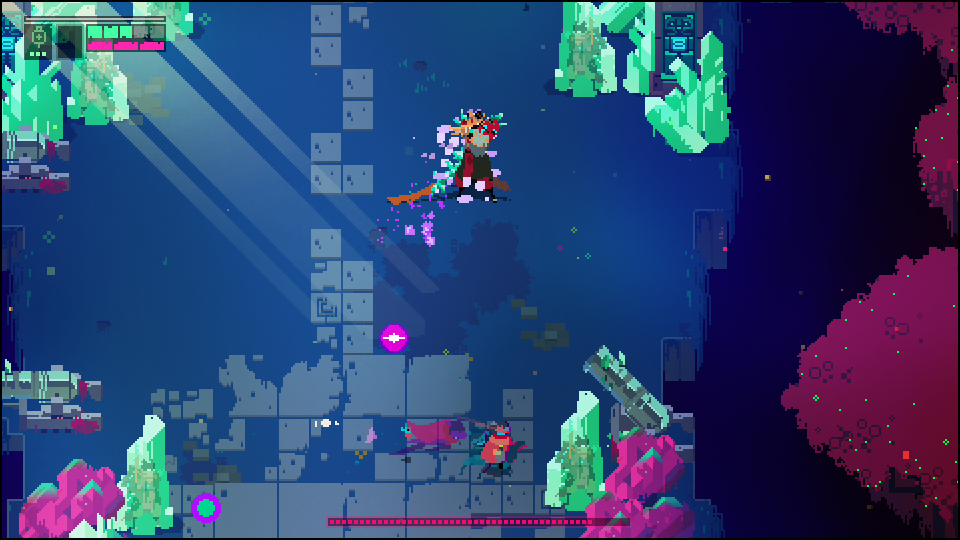hanged_man: (425, 104, 513, 209)
hanged_shot: (378, 322, 408, 354), (190, 493, 221, 522)
player: (479, 422, 512, 476)
